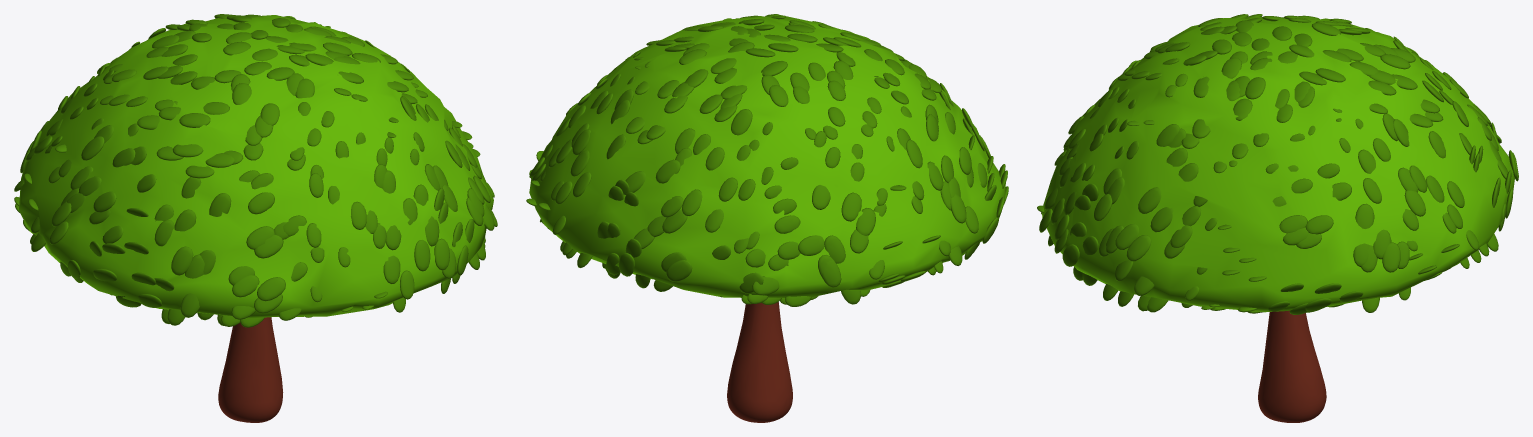
Rendered from arvore_redonda.glb.
The picture shows the model from 3 angles, left to right: view 1: azimuth 30°, elevation 25°; view 2: azimuth 150°, elevation 25°; view 3: azimuth 270°, elevation 25°; orthographic projection.
Visible parts, largest first — view 1: Cube.122, Mesh_assada, Plane.061; view 2: Cube.122, Mesh_assada, Plane.061; view 3: Cube.122, Mesh_assada, Plane.061.
Boxes of the visible parts, x1,y1,x2,y2 form: Cube.122: (19,15,493,318); Mesh_assada: (14,14,497,327); Plane.061: (218,317,283,422); Cube.122: (529,15,1005,298); Mesh_assada: (526,14,1008,306); Plane.061: (727,302,792,422); Cube.122: (1042,17,1514,312); Mesh_assada: (1037,14,1518,314); Plane.061: (1258,310,1326,422).
Size of what is drawn, in the model's own units: 2.31 by 2 by 2.31.
